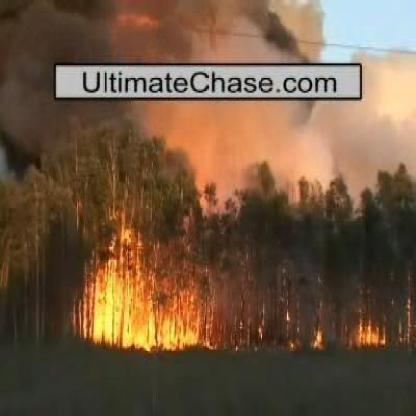-: (81, 6, 323, 61), (163, 102, 384, 161)
foggia-v2-map80-epoch100 - v1 4323: (94, 284, 149, 346)
